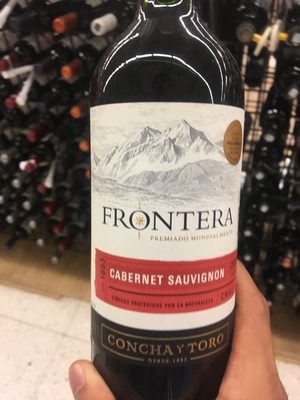frontera cabernet sauvignon: (88, 22, 242, 400)
